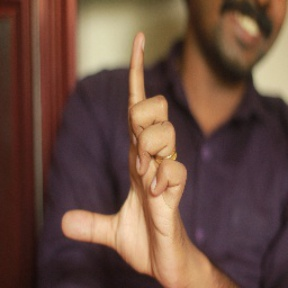L: (60, 31, 191, 275)
